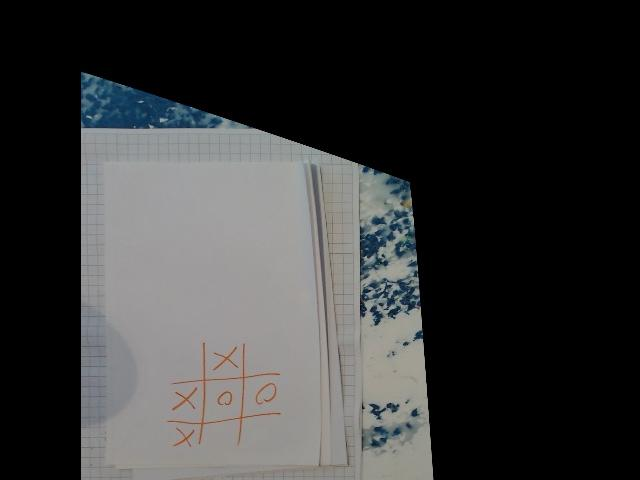O: (248, 380, 277, 406), (213, 386, 236, 410)
X: (208, 342, 237, 374), (170, 385, 198, 415), (170, 426, 196, 452)
grid: (165, 336, 284, 455)
